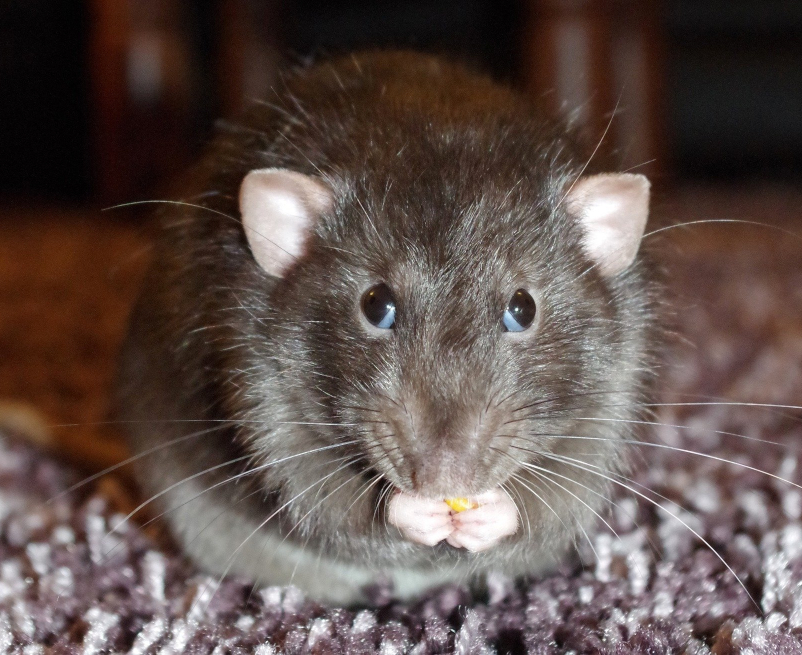rat: (83, 27, 711, 622)
